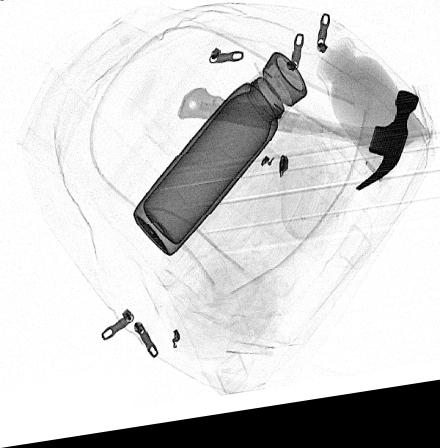Hammer: (176, 92, 420, 204)
